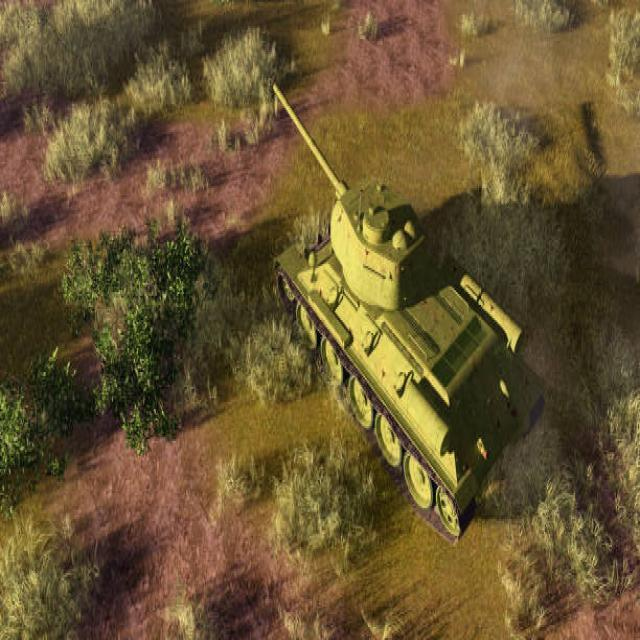Tanks: (272, 80, 544, 540)
